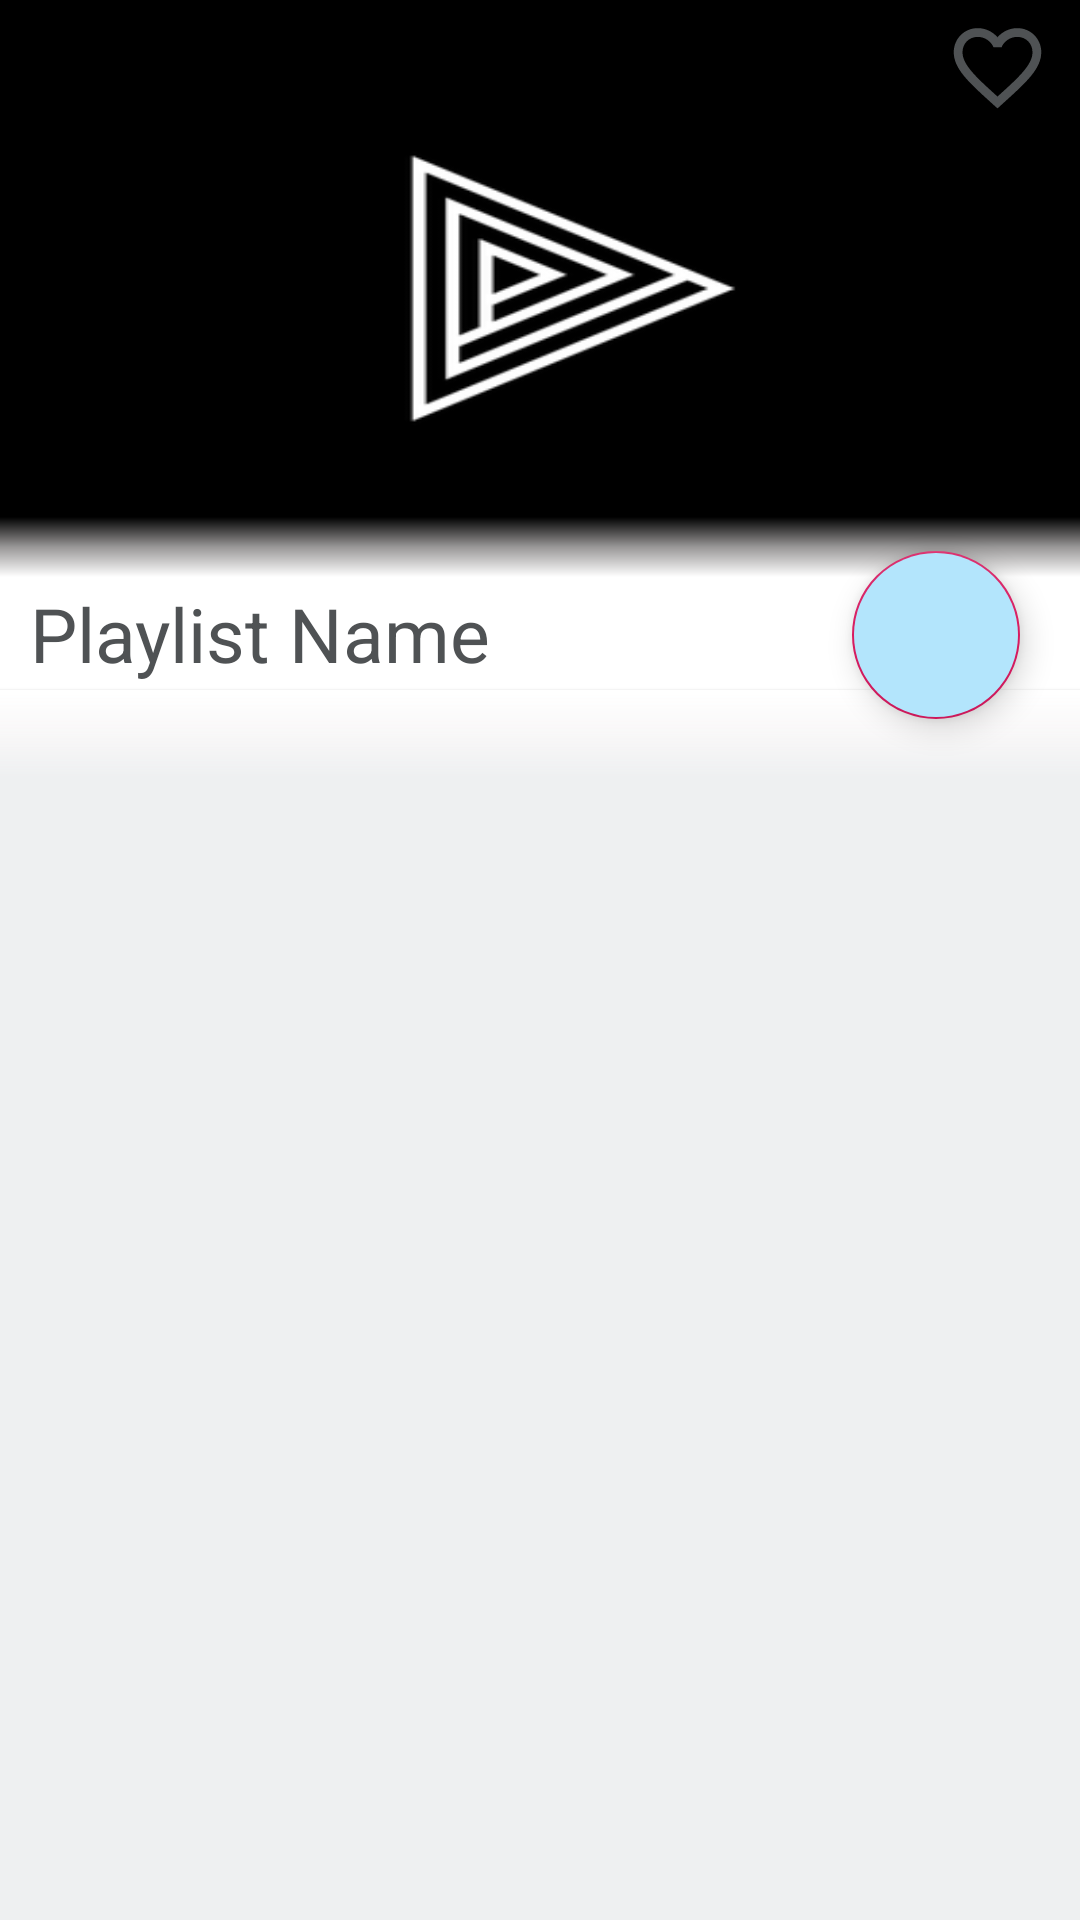

Icon click points for this 1080 × 1920 phone screenshot, format (x=x, y=y):
favourate: (x=997, y=68)
